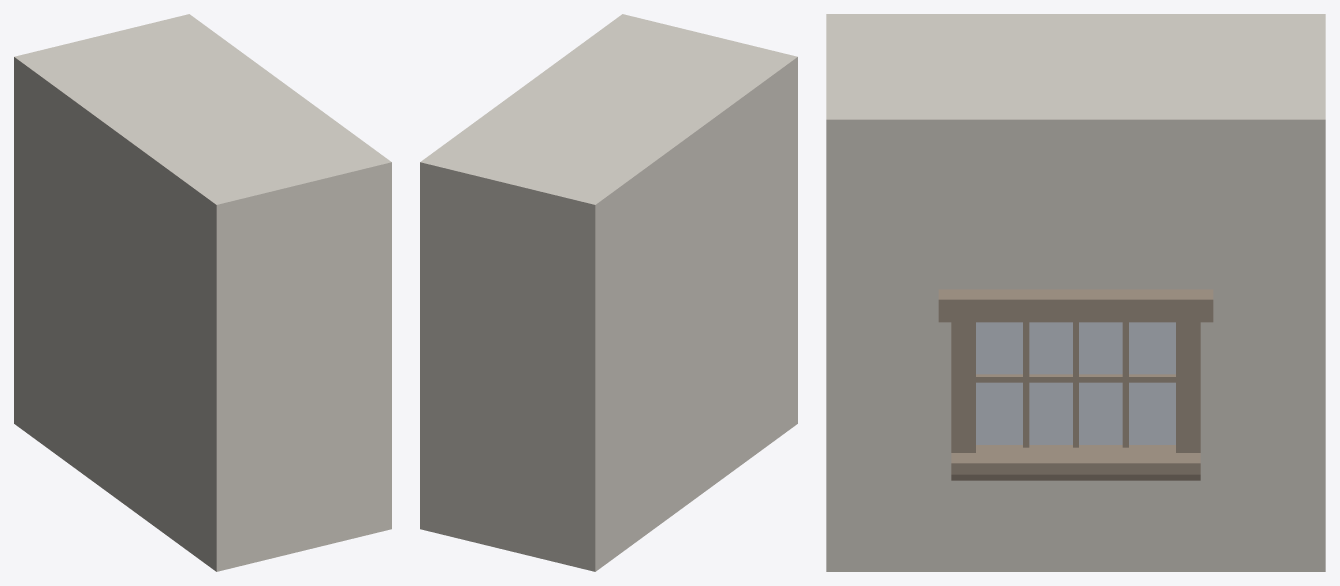
File: Stucco_Window_Double_Wide_Tall.glb
3 views of the same model, side by side, from view 1: azimuth 30°, elevation 25°; view 2: azimuth 150°, elevation 25°; view 3: azimuth 270°, elevation 25° (orthographic). The views are drawn at different scales.
Visible parts, largest first — view 1: object3; view 2: object3; view 3: object3, object1, object2.
Boxes of the visible parts, x1,y1,x2,y2 form: object3: [14, 14, 391, 571]; object3: [420, 14, 797, 571]; object3: [826, 14, 1325, 571]; object1: [938, 289, 1213, 480]; object2: [976, 322, 1175, 447].
Size of the model in its own units: 1.15 by 2 by 2.
